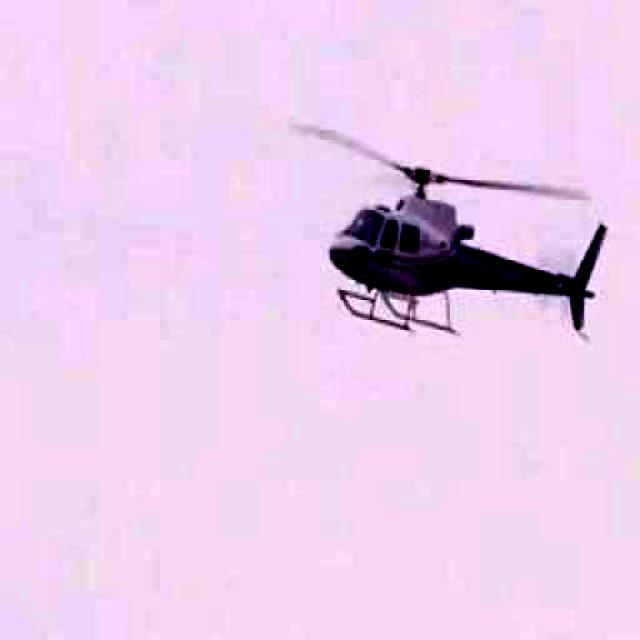drone: (234, 80, 628, 374)
